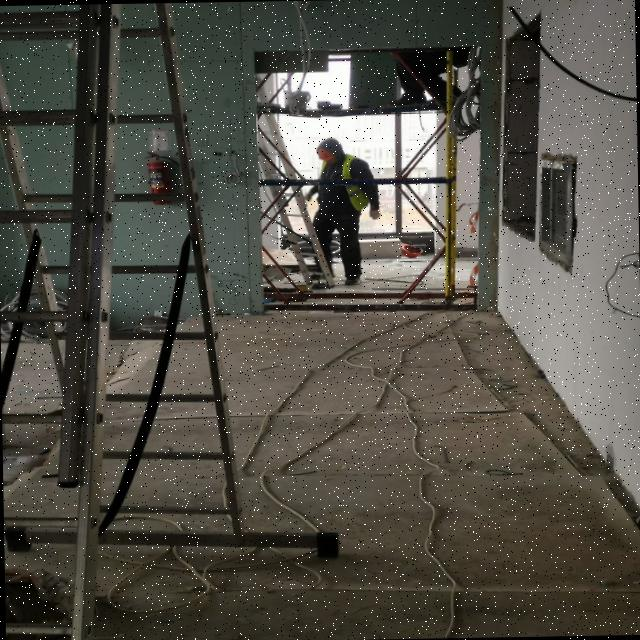Helmet: (318, 148, 336, 165)
Jacket: (318, 158, 364, 215)
